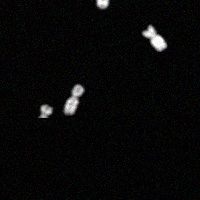chromosome: (141, 24, 166, 51), (64, 85, 84, 115), (97, 0, 109, 8)
